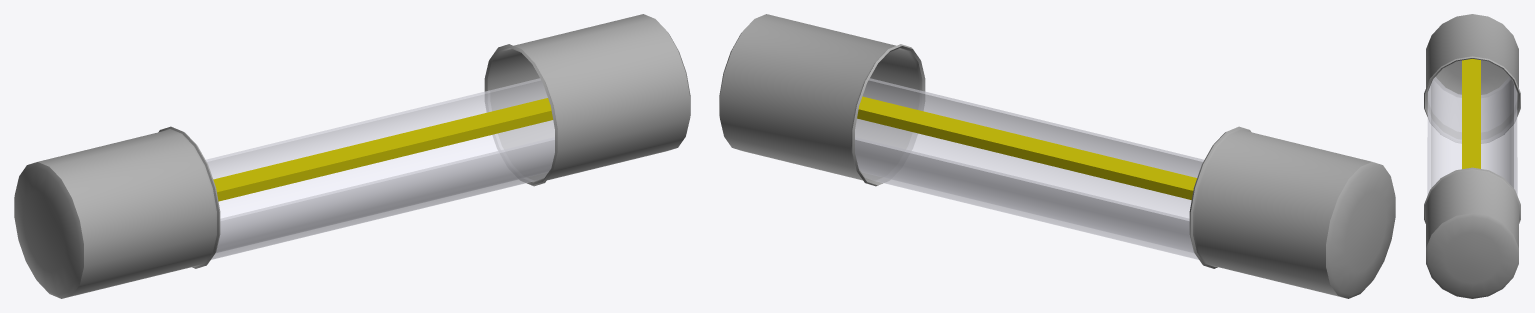
The model's file is fuse.glb.
3 renders of one model, left to right at view 1: azimuth 30°, elevation 25°; view 2: azimuth 150°, elevation 25°; view 3: azimuth 270°, elevation 25°, orthographic. The views are drawn at different scales.
Visible parts, largest first — view 1: Object_4, Object_2, Object_3; view 2: Object_4, Object_2, Object_3; view 3: Object_4, Object_2, Object_3.
Part boxes in pixels (box(x1,y1,x2,y2)): Object_4: box(14, 14, 690, 298); Object_2: box(205, 78, 554, 259); Object_3: box(213, 98, 552, 201); Object_4: box(719, 14, 1395, 298); Object_2: box(855, 78, 1204, 259); Object_3: box(857, 96, 1196, 199); Object_4: box(1424, 14, 1520, 298); Object_2: box(1427, 76, 1517, 195); Object_3: box(1462, 59, 1480, 169).
Size of the model in its own units: 6.15 by 1.25 by 1.23.
